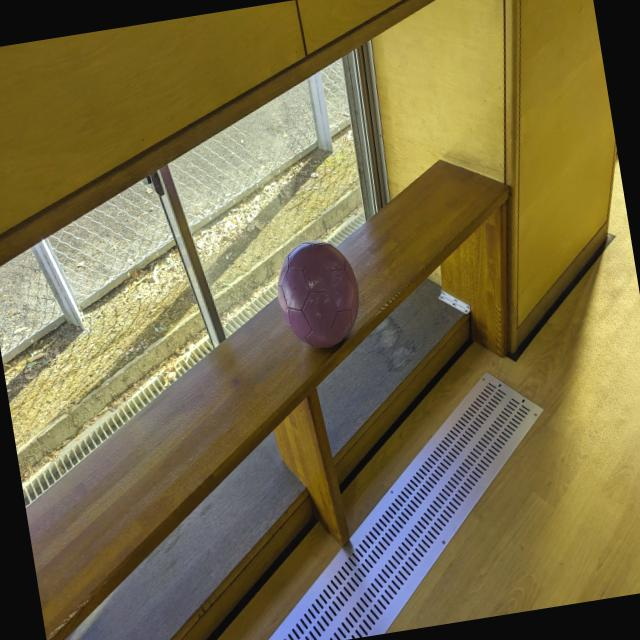purple_ball: (268, 234, 368, 357)
